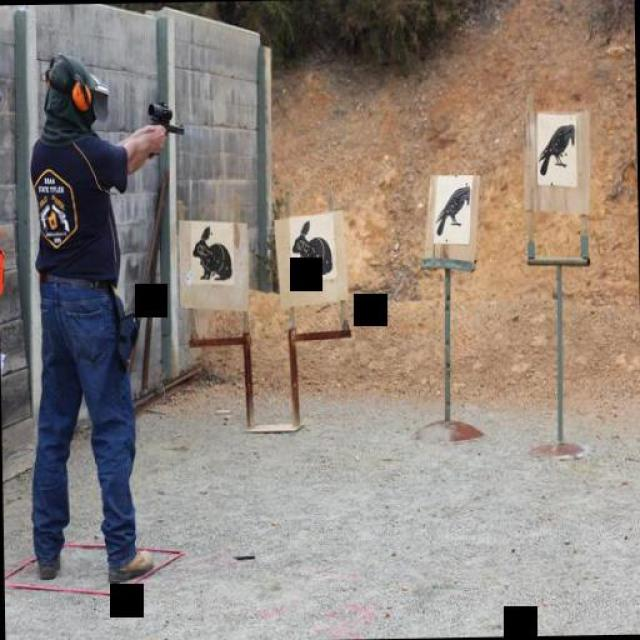gun: (140, 96, 184, 156)
